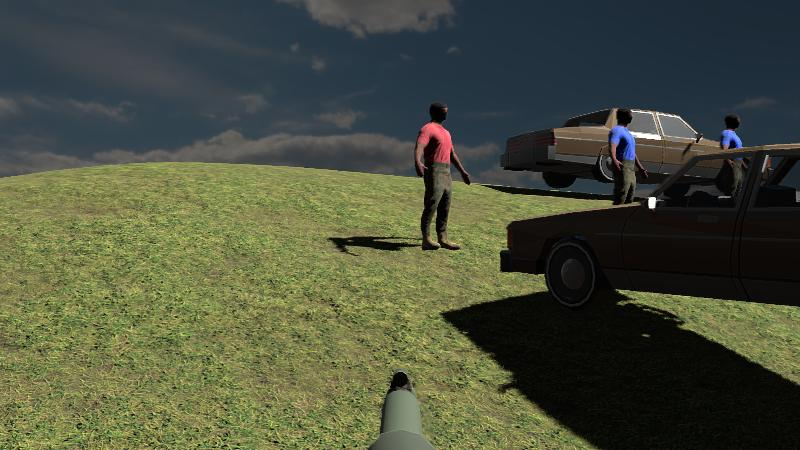Human: (416, 99, 470, 251), (612, 105, 647, 236), (612, 108, 647, 231), (719, 113, 748, 217)
car: (501, 143, 800, 308), (499, 103, 774, 185)
